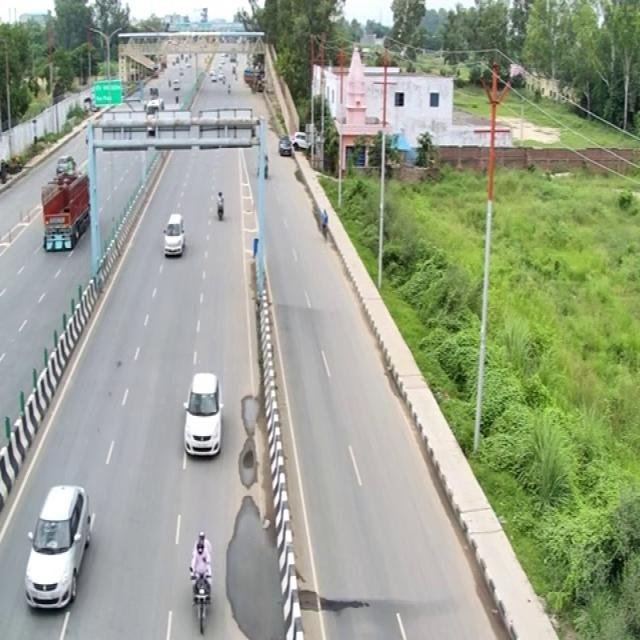car: (23, 481, 90, 611), (180, 367, 226, 460), (160, 210, 188, 258)
